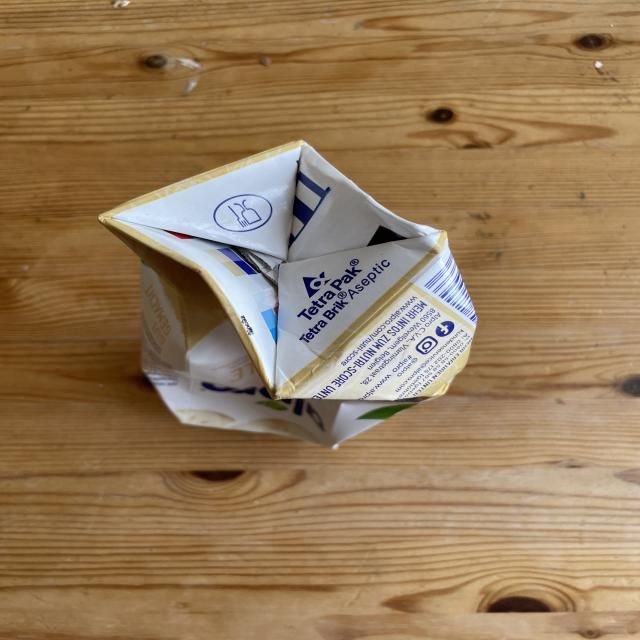non_white_jug: (104, 136, 477, 452)
